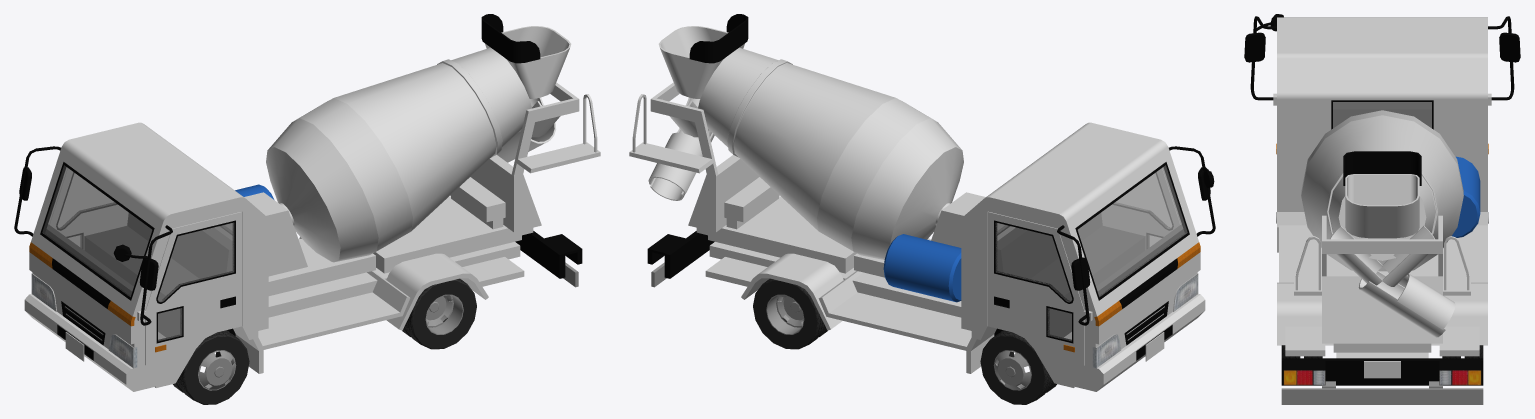
Rendered from 生コン車.fbx.
3 views of the same model, side by side, from view 1: azimuth 30°, elevation 25°; view 2: azimuth 150°, elevation 25°; view 3: azimuth 270°, elevation 25° (orthographic). The views are drawn at different scales.
Visible parts, largest first — view 1: カタログ部品; view 2: カタログ部品; view 3: カタログ部品.
Boxes of the visible parts, x1,y1,x2,y2 form: カタログ部品: (14,14,600,404); カタログ部品: (629,14,1215,404); カタログ部品: (1244,14,1520,404).
Size of the model in its own units: 6365 by 2964 by 3170.
13 materials, 5 textured.
